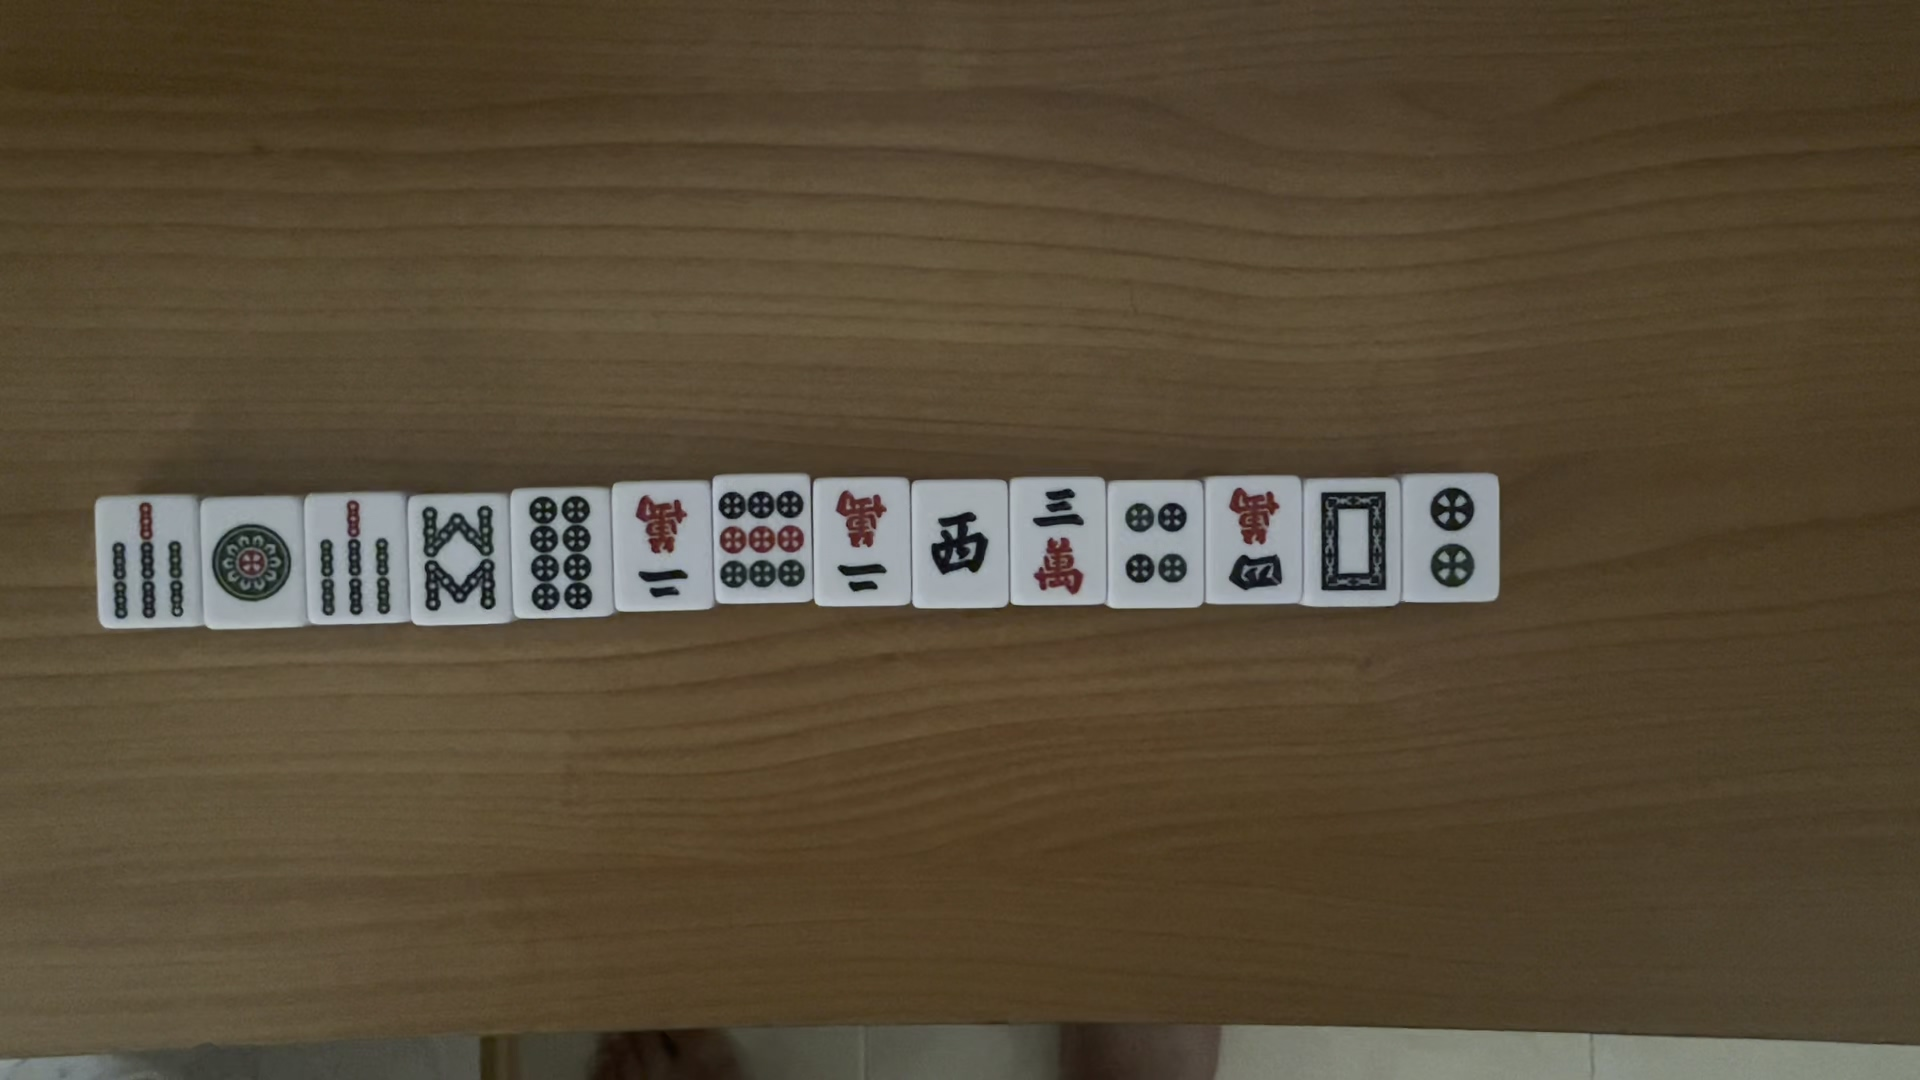b-7: (102, 496, 193, 630), (316, 493, 407, 626)
b-8: (415, 502, 502, 617)
c-2: (625, 493, 696, 599), (827, 491, 898, 596)
c-3: (1025, 487, 1093, 596)
c-4: (1215, 487, 1290, 596)
d-1: (203, 514, 295, 609)
d-2: (1425, 483, 1478, 588)
d-4: (1120, 498, 1193, 585)
d-8: (520, 493, 596, 618)
d-9: (715, 488, 812, 593)
honors-west: (920, 512, 993, 579)
honors-white: (1312, 483, 1394, 599)
